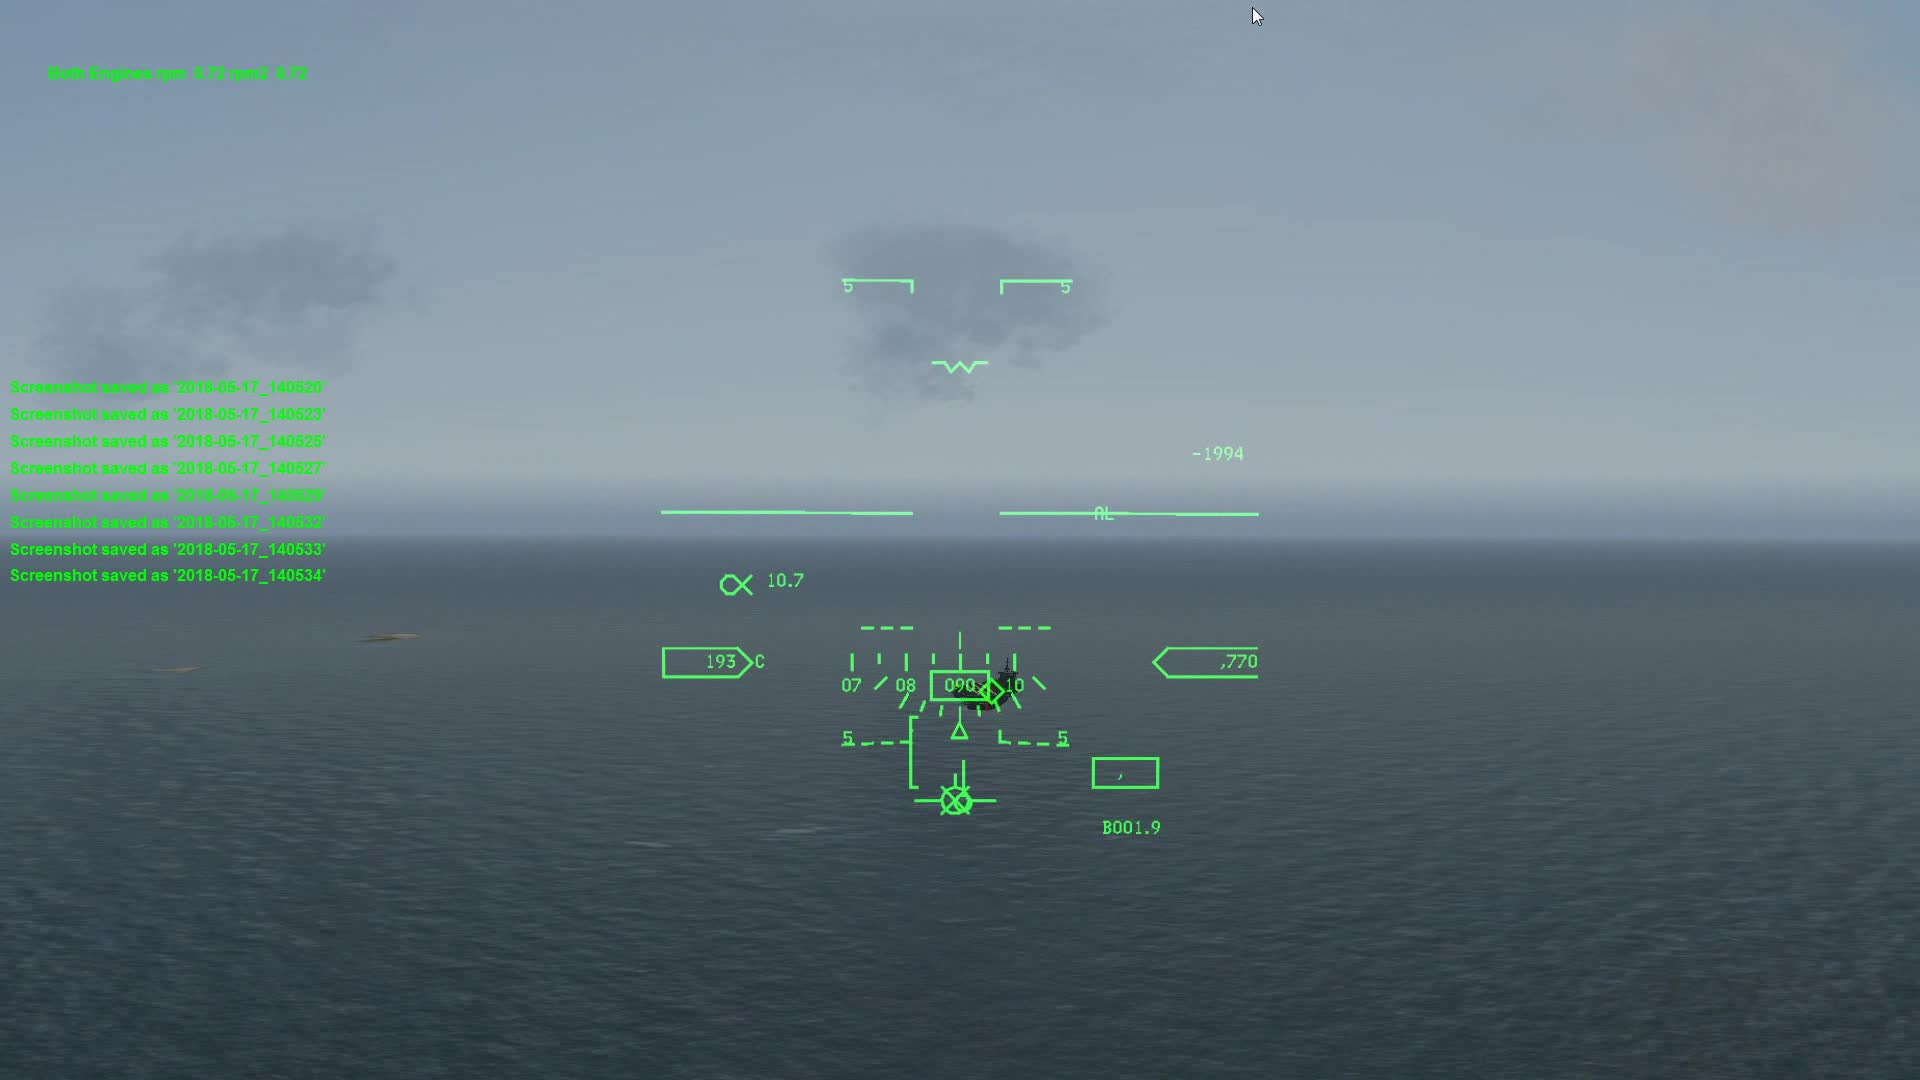speed vector: (913, 764, 1004, 823)
